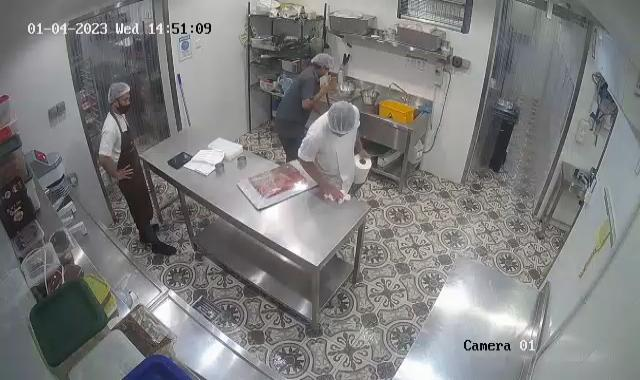hairnet: (326, 101, 359, 140), (104, 80, 131, 105), (311, 47, 334, 74)
